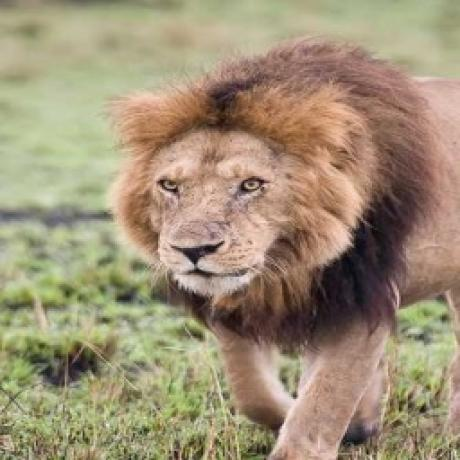Lion: (109, 21, 460, 458)
